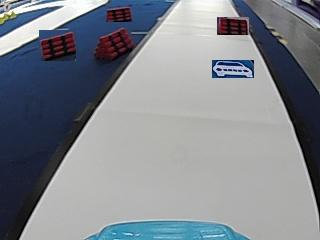bomb: (95, 24, 132, 59)
